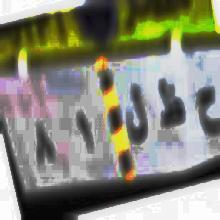1: (75, 108, 96, 153)
7aa: (195, 85, 220, 136)
8: (33, 117, 58, 175)
Thaa: (154, 78, 185, 135)
laam: (121, 80, 149, 150)
